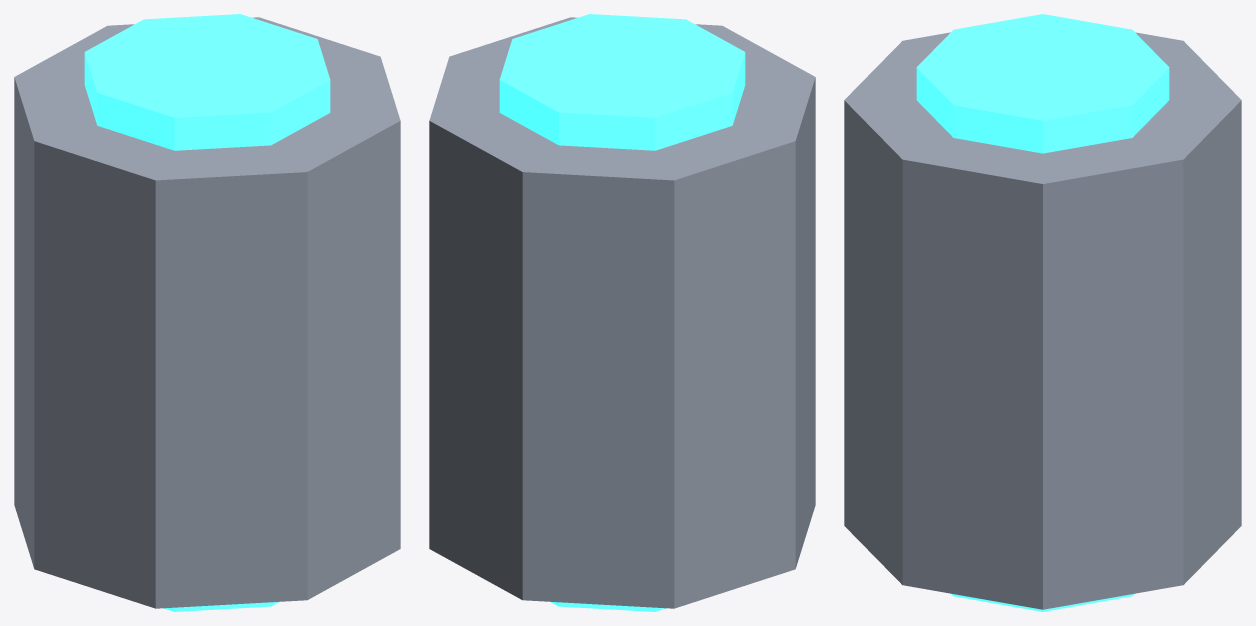
Rendered from power_cell.glb.
The picture shows the model from 3 angles, left to right: view 1: azimuth 30°, elevation 25°; view 2: azimuth 150°, elevation 25°; view 3: azimuth 270°, elevation 25°; orthographic projection.
Parts seen in each view (by area): view 1: power_cell; view 2: power_cell; view 3: power_cell.
Boxes of the visible parts, <box> form: power_cell: <box>14,14,400,611</box>; power_cell: <box>429,14,815,611</box>; power_cell: <box>844,14,1241,611</box>.
Size of the model in its own units: 0.22 by 0.3 by 0.22.
